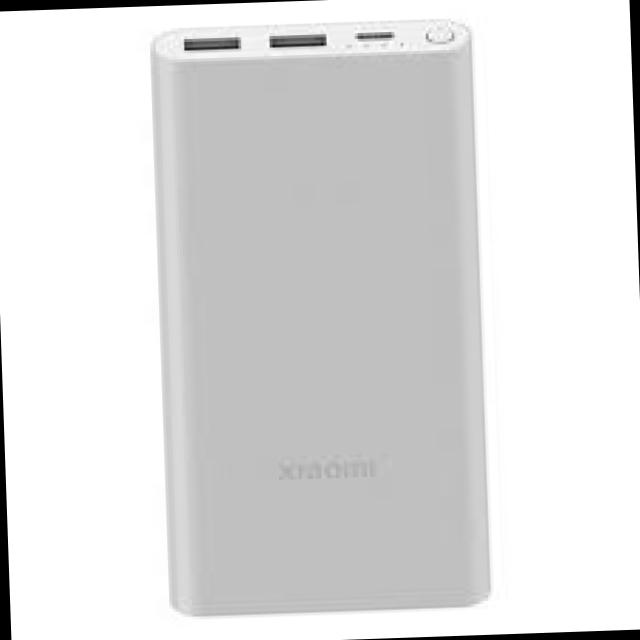portable-charger: (144, 12, 501, 627)
